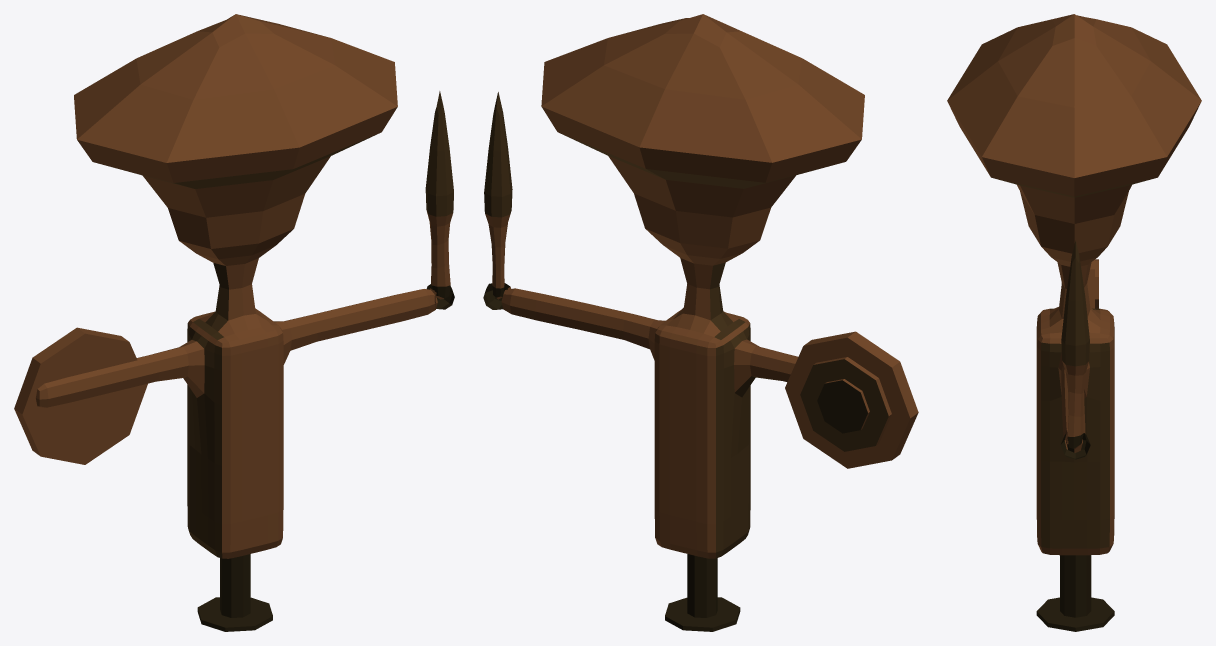
File: maniqui.fbx
3 views of the same model, side by side, from view 1: azimuth 30°, elevation 25°; view 2: azimuth 150°, elevation 25°; view 3: azimuth 270°, elevation 25° (orthographic).
Visible parts, largest first — view 1: Cube.001; view 2: Cube.001; view 3: Cube.001.
Part boxes in pixels (<box>): Cube.001: <box>14,14,454,631</box>; Cube.001: <box>483,14,918,631</box>; Cube.001: <box>947,14,1201,631</box>.
Bounding box in the file's own units: 146 × 195 × 74.75.
